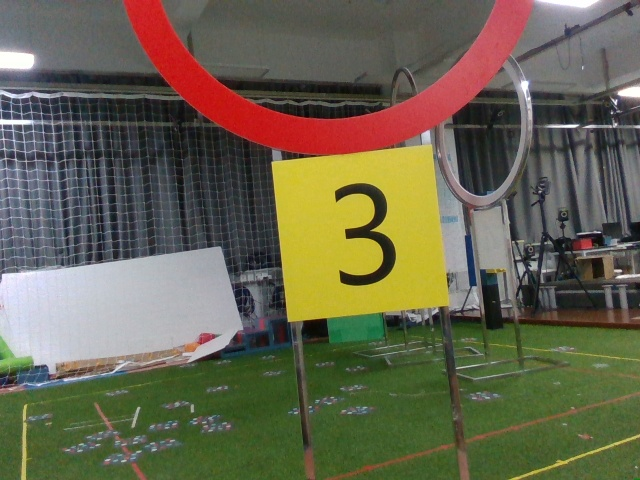target: (279, 154, 437, 316)
